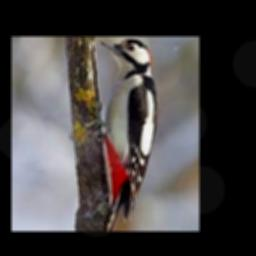Woodpecker: (89, 38, 158, 231)
